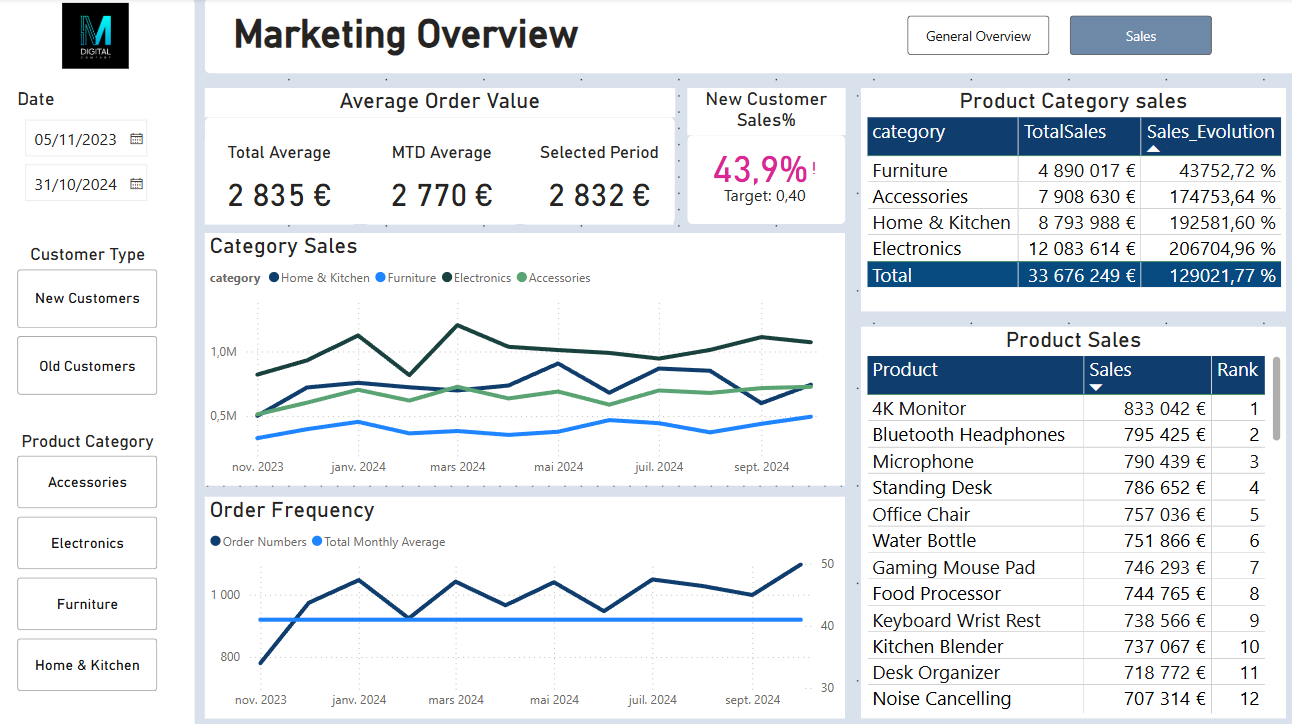

What the dashboard file says about the page in this screenshot:
{"tool":"powerbi","page":{"name":"Sales","canvas":[1280,720],"ordinal":1},"visuals":[{"type":"shape","box":[205.7,0,1074.3,74.3],"z":0},{"type":"shape","title":"Average Order Value","box":[205.7,88.6,462.9,134.3],"z":1000,"group":"g1"},{"type":"shape","title":"New Customer Sales%","box":[680.6,88.6,155.7,134.3],"z":1000},{"type":"shape","box":[0,0,195.7,720],"z":2000},{"type":"slicer","title":"Date","fields":{"Values":["orders6.order_date"]},"box":[15.7,88.6,148.6,124.3],"z":3000},{"type":"card","title":"MTD Average","fields":{"Values":["orders6.AOV_MTD"]},"box":[365.4,141.1,146.8,81.8],"z":4000,"group":"g1"},{"type":"lineChart","title":"Order Frequency","fields":{"Category":["orders6.order_date.Variation.Date Hierarchy.Year","orders6.order_date.Variation.Date Hierarchy.Month"],"Y":["CountNonNull(orders6.order_id)"],"Y2":["Min(orders6.Monthly_Average)"]},"box":[205.7,491.4,630,218.6],"z":4000},{"type":"textbox","box":[228.6,7.1,361.4,58.6],"z":5000},{"type":"card","title":"Total Average","fields":{"Values":["orders6.Total_AOV"]},"box":[205.7,141.1,146.8,81.8],"z":5000,"group":"g1"},{"type":"pageNavigator","box":[897.2,17.2,301.5,39.4],"z":6000},{"type":"card","title":"Selected Period","fields":{"Values":["orders6.AOV_Selected_Period"]},"box":[520.2,141.1,146.8,81.8],"z":6000,"group":"g1"},{"type":"tableEx","title":"Product Category sales","fields":{"Values":["products4.category","orders6.TotalSales","orders6.Sales_Evolution"]},"box":[851.4,88.6,418.6,220],"z":7000},{"type":"tableEx","title":"Product Sales","fields":{"Values":["products4.product_name","order_items7.Supplier_Sales","products4.Product_Rank1"]},"box":[851.4,324.3,418.6,385.7],"z":8000},{"type":"lineChart","title":"Category Sales","fields":{"Y":["order_items7.Supplier_Sales"],"Category":["orders6.order_date.Variation.Date Hierarchy.Year","orders6.order_date.Variation.Date Hierarchy.Month"],"Series":["products4.category"]},"box":[205.7,231.4,630,248.6],"z":9000},{"type":"image","box":[60,0,75.7,74.3],"z":10000},{"type":"group","id":"g1","title":"Group 1","box":[205.7,88.6,462.9,134.3],"z":11000},{"type":"advancedSlicerVisual","title":"Customer Type","fields":{"Values":["orders6.Customer_Type"]},"box":[15.7,237.1,148.6,158.6],"z":12000},{"type":"advancedSlicerVisual","title":"Product Category","fields":{"Values":["products4.category"]},"box":[15.7,421.4,148.6,270],"z":13000},{"type":"kpi","title":"New Customer Sales%","fields":{"Indicator":["order_items7.New_Customer_Sales_Ratio"],"TrendLine":["orders6.YearMonth"],"Goal":["all measures.New_customers_sales%_goal"]},"box":[696.6,141,123.9,74.3],"z":14000},{"type":"textbox","box":[817.2,25.8,59.1,22.2],"z":15000},{"type":"actionButton","box":[811.1,196.2,25,26.4],"z":16000},{"type":"actionButton","box":[487,196.2,25,26.4],"z":17000}]}

Visuals, with their boxes in screenshot pixels (x1, y1, x2, y2), scaled from the page's 1280x720 canvas onto the 1292x724 screenshot:
shape: rect(208, 0, 1291, 75)
"Average Order Value" shape: rect(208, 89, 675, 224)
"New Customer Sales%" shape: rect(687, 89, 844, 224)
shape: rect(0, 0, 198, 723)
"Date" slicer: rect(16, 89, 166, 214)
"MTD Average" card: rect(369, 142, 517, 224)
"Order Frequency" lineChart: rect(208, 494, 844, 714)
textbox: rect(231, 7, 596, 66)
"Total Average" card: rect(208, 142, 356, 224)
pageNavigator: rect(906, 17, 1210, 57)
"Selected Period" card: rect(525, 142, 673, 224)
"Product Category sales" tableEx: rect(859, 89, 1282, 310)
"Product Sales" tableEx: rect(859, 326, 1282, 714)
"Category Sales" lineChart: rect(208, 233, 844, 483)
image: rect(61, 0, 137, 75)
"Group 1" group: rect(208, 89, 675, 224)
"Customer Type" advancedSlicerVisual: rect(16, 238, 166, 398)
"Product Category" advancedSlicerVisual: rect(16, 424, 166, 695)
"New Customer Sales%" kpi: rect(703, 142, 828, 216)
textbox: rect(825, 26, 885, 48)
actionButton: rect(819, 197, 844, 224)
actionButton: rect(492, 197, 517, 224)
